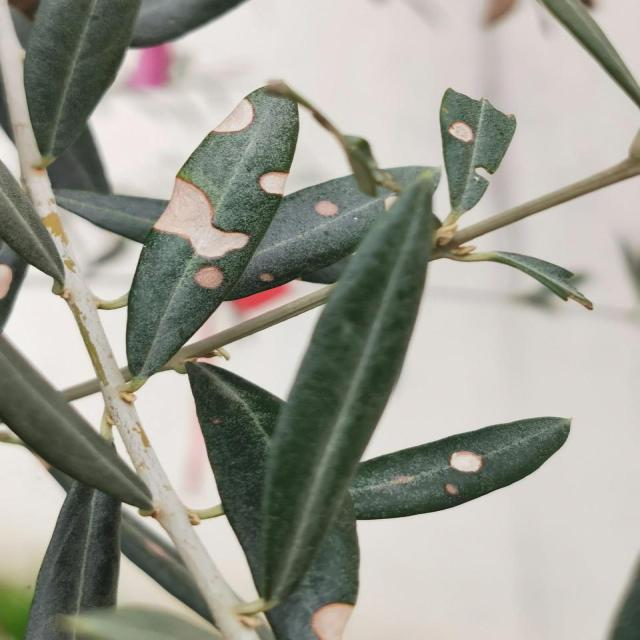Peacock Eye: (126, 86, 298, 384), (349, 418, 570, 520), (439, 88, 515, 212)
